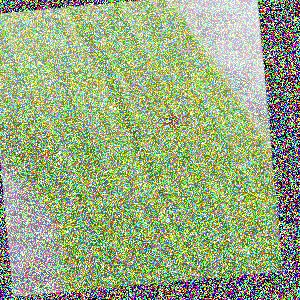Bacterial_Leaf_Blight: (155, 110, 187, 132), (36, 127, 54, 138), (57, 69, 75, 80), (171, 66, 185, 79), (179, 94, 196, 104), (125, 127, 140, 137), (39, 91, 52, 101)
